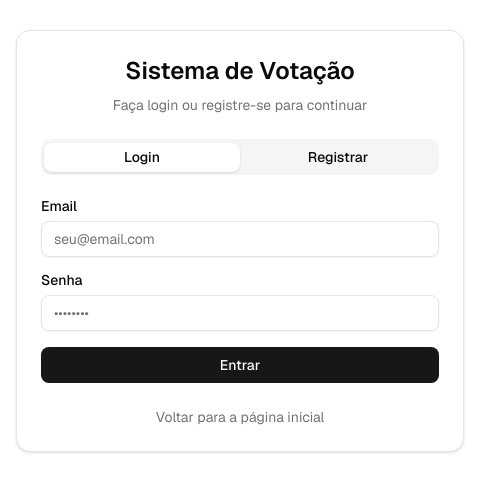
Test: Authentication Flow › Login › validates password field
In the field labelled "Email": (240, 239) [41, 221, 439, 257], type "test@example.com"
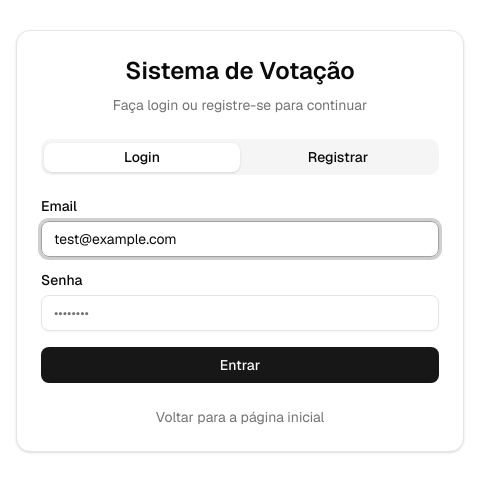
Clear the password field labelled "Senha": (240, 313) [41, 295, 439, 331]
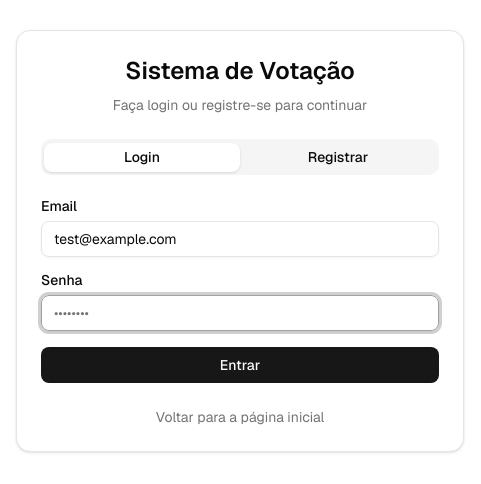
Click the button "Entrar": (240, 365) [41, 347, 439, 383]
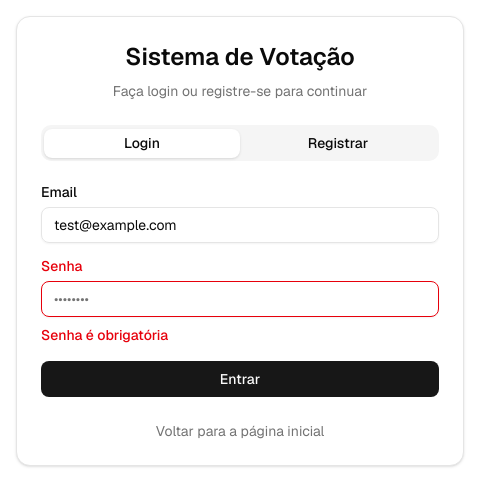
Result: the text "Senha é obrigatória" is shown at [41, 326, 168, 344]
